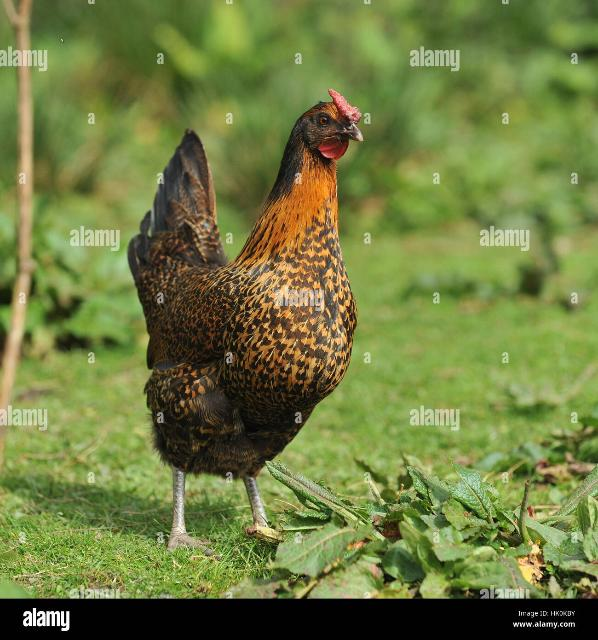Chicken: (127, 88, 364, 552)
